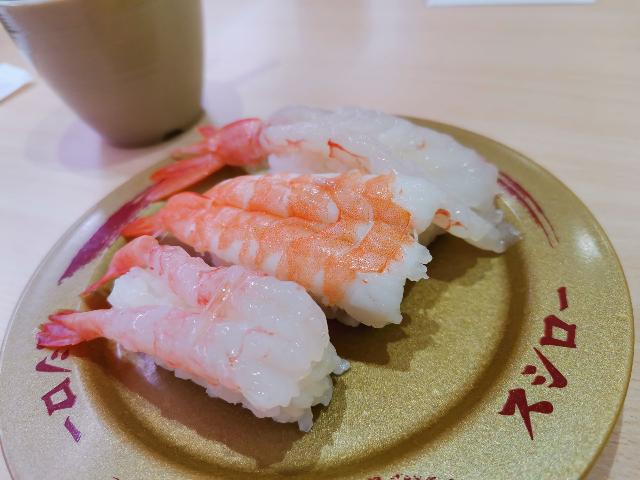jangold: (33, 156, 640, 480)
